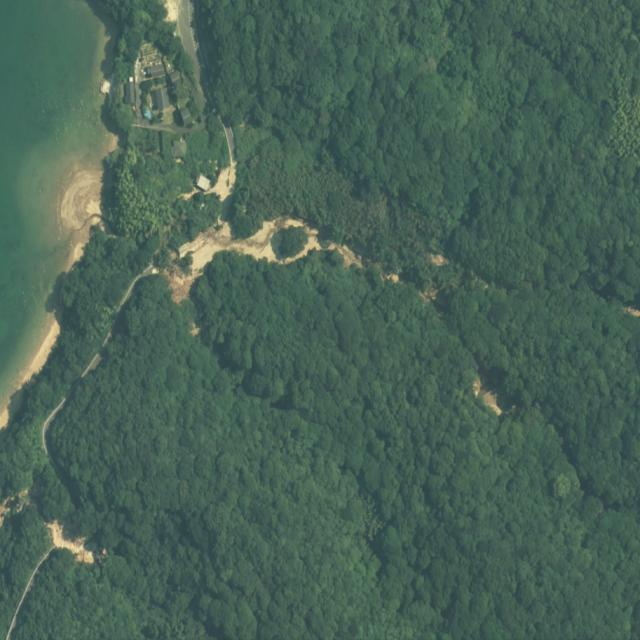landslide: (46, 522, 93, 563)
